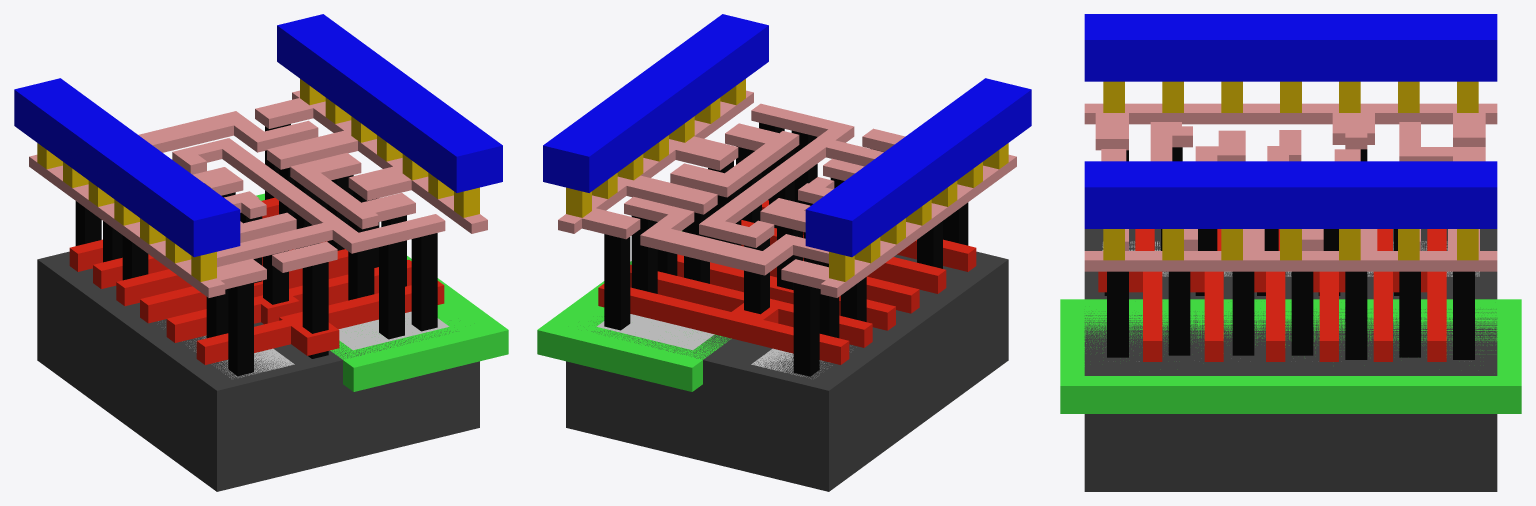
The model's file is sky130_fd_sc_hd__a31o_2.obj.
3 views of the same model, side by side, from view 1: azimuth 30°, elevation 25°; view 2: azimuth 150°, elevation 25°; view 3: azimuth 270°, elevation 25° (orthographic). The views are drawn at different scales.
Visible parts, largest first — view 1: subs, metal1, li, licon, poly, nwell, mcon, tap, diff; view 2: subs, metal1, li, poly, licon, nwell, mcon, tap, diff; view 3: metal1, subs, nwell, li, licon, poly, mcon.
Part boxes in pixels (bbox=[...]): subs: bbox=[37, 251, 479, 491]; metal1: bbox=[14, 14, 502, 257]; li: bbox=[29, 90, 487, 297]; licon: bbox=[75, 124, 437, 375]; poly: bbox=[69, 197, 444, 364]; nwell: bbox=[256, 193, 508, 391]; mcon: bbox=[37, 79, 479, 281]; tap: bbox=[338, 311, 449, 350]; diff: bbox=[158, 321, 294, 378]; subs: bbox=[566, 251, 1008, 491]; metal1: bbox=[543, 14, 1031, 257]; li: bbox=[558, 90, 1016, 297]; poly: bbox=[598, 200, 976, 364]; licon: bbox=[604, 122, 968, 376]; nwell: bbox=[537, 231, 731, 391]; mcon: bbox=[566, 79, 1008, 281]; tap: bbox=[596, 314, 714, 350]; diff: bbox=[751, 348, 832, 378]; metal1: bbox=[1084, 14, 1497, 228]; subs: bbox=[1084, 229, 1497, 491]; nwell: bbox=[1060, 299, 1521, 413]; li: bbox=[1084, 103, 1497, 271]; licon: bbox=[1104, 147, 1474, 359]; poly: bbox=[1098, 229, 1446, 361]; mcon: bbox=[1103, 81, 1478, 260].
Bounding box in the file's own units: 3.2 × 2.74 × 3.6.
